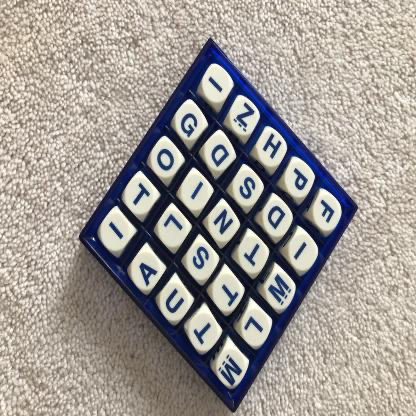a: (132, 251, 162, 291)
d: (264, 199, 293, 237), (205, 135, 234, 172)
f: (314, 194, 342, 231)
g: (176, 104, 205, 141)
h: (258, 131, 286, 168)
i: (102, 213, 131, 252), (289, 232, 318, 271), (182, 175, 210, 212), (204, 66, 231, 103)
l: (159, 210, 189, 249), (242, 309, 271, 347)
m: (217, 349, 247, 390), (265, 272, 296, 311)
n: (209, 205, 237, 243)
o: (152, 142, 181, 179)
p: (286, 162, 314, 199)
s: (187, 242, 216, 281), (234, 170, 263, 207)
t: (190, 313, 220, 352), (213, 274, 243, 313), (239, 236, 268, 274), (126, 177, 154, 215)
u: (161, 283, 190, 322)
z: (230, 98, 259, 136)
